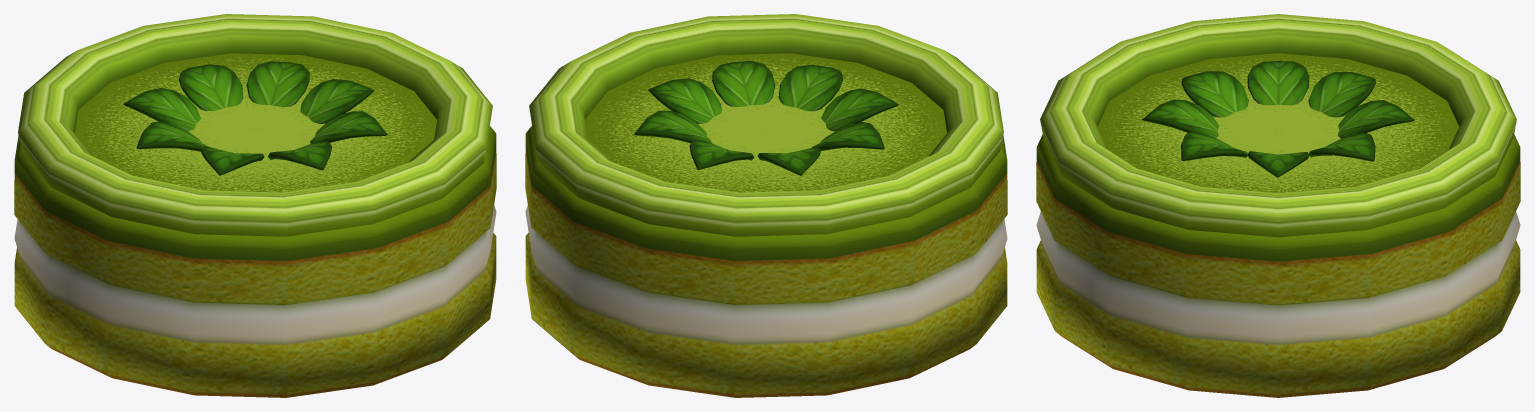
Rendered from 008-Cake04.FBX.
The picture shows the model from 3 angles, left to right: view 1: azimuth 30°, elevation 25°; view 2: azimuth 150°, elevation 25°; view 3: azimuth 270°, elevation 25°; orthographic projection.
Visible parts, largest first — view 1: 008-Cake04; view 2: 008-Cake04; view 3: 008-Cake04.
Boxes of the visible parts, x1,y1,x2,y2 form: 008-Cake04: (14, 14, 496, 397); 008-Cake04: (525, 14, 1007, 397); 008-Cake04: (1036, 14, 1520, 397).
Bounding box in the file's own units: 32.62 × 14.16 × 32.62.
